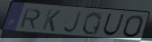J: (62, 10, 83, 34)
K: (40, 8, 63, 33)
O: (122, 14, 146, 39)
Q: (80, 11, 103, 37)
R: (18, 8, 42, 30)
U: (101, 12, 126, 37)
